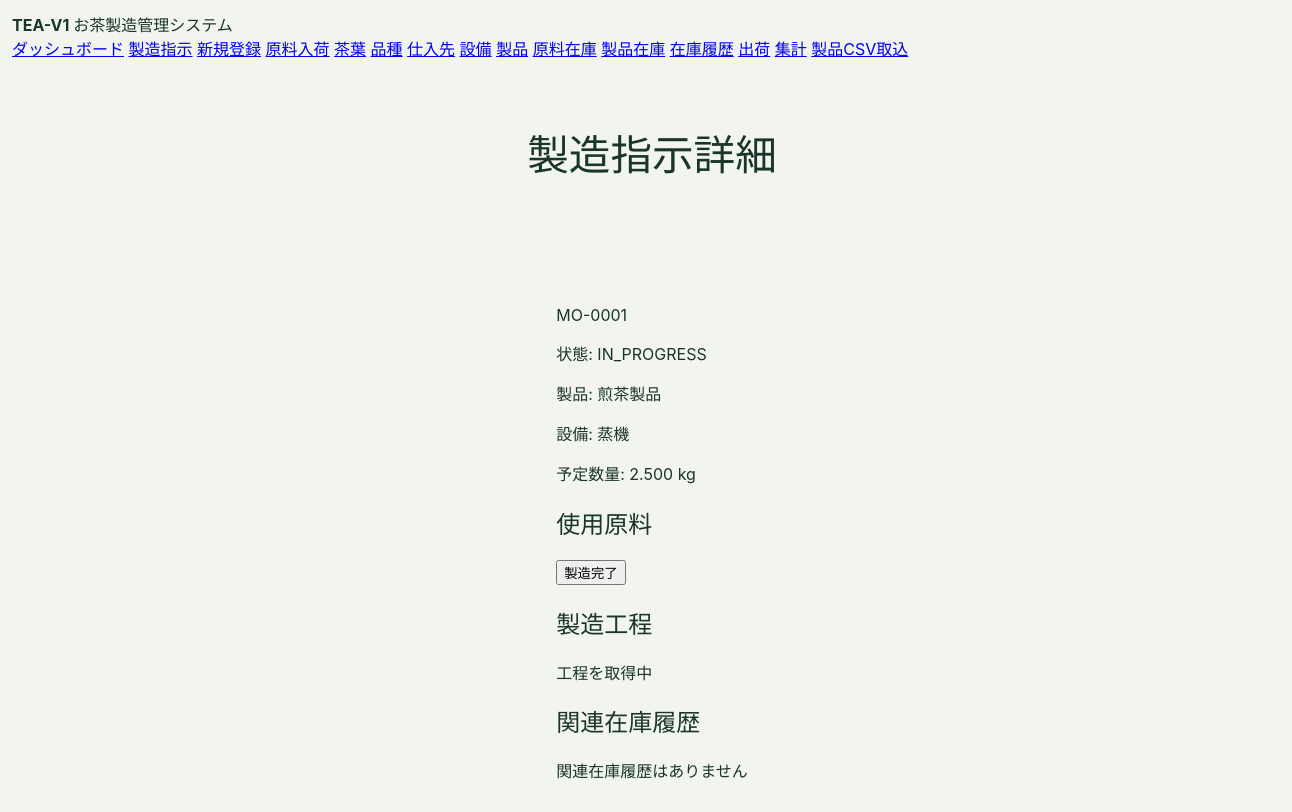
Test: 状態操作失敗時にエラーを表示する
Step 1. Click the button "製造完了" → click(591, 572), box x1=556 y1=560 x2=626 y2=585
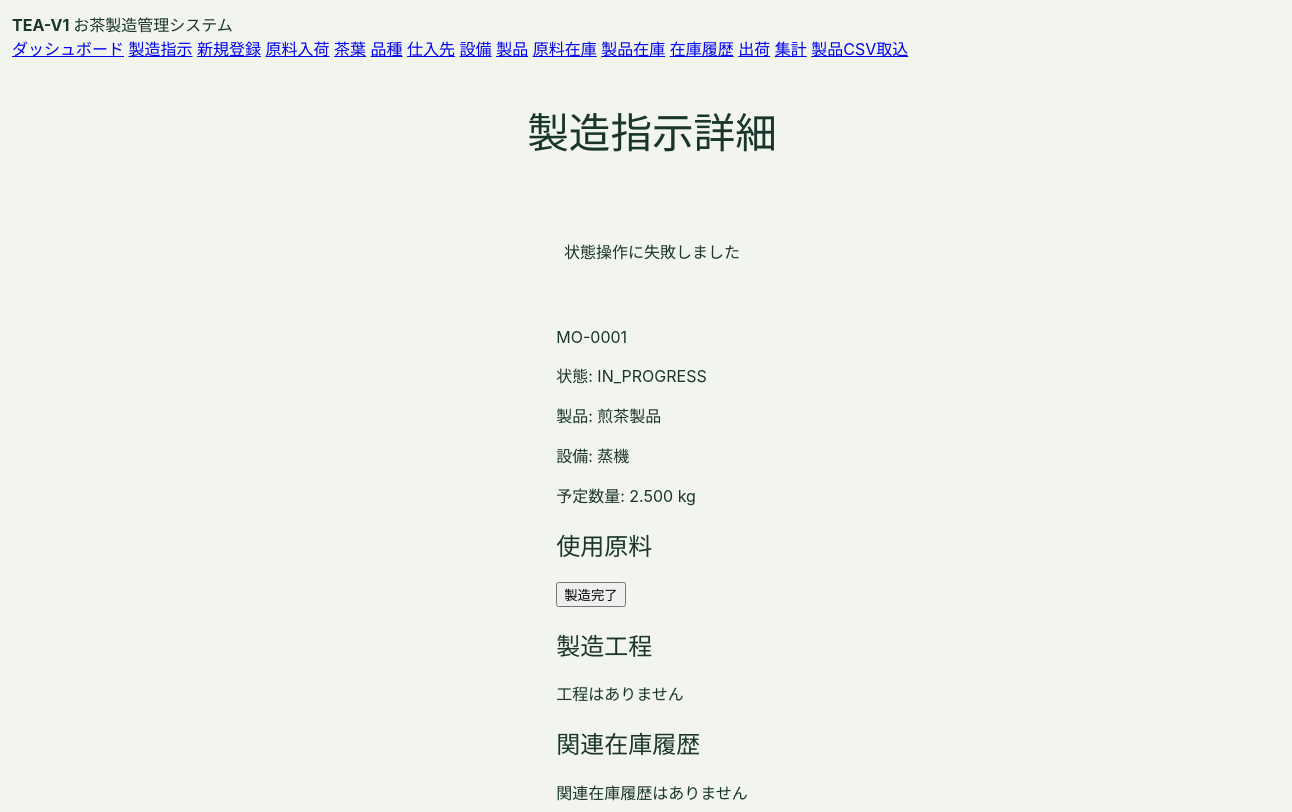
Now the message reads "状態操作に失敗しました", box x1=564 y1=242 x2=740 y2=262
